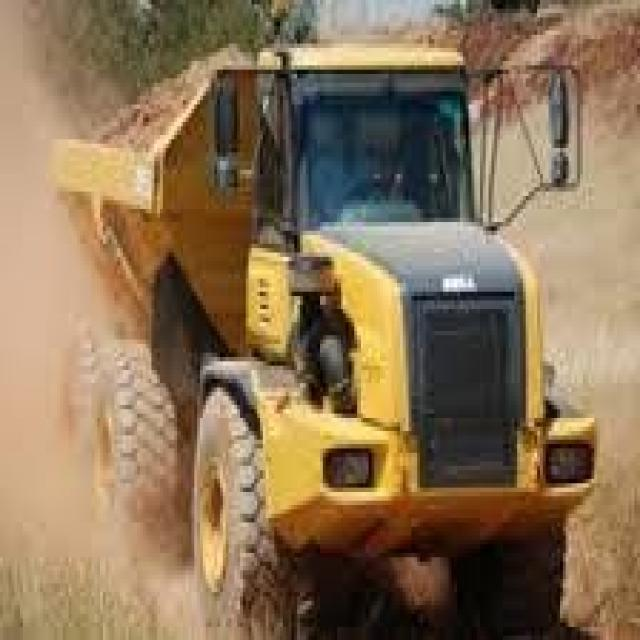dump_truck: (23, 22, 603, 631)
